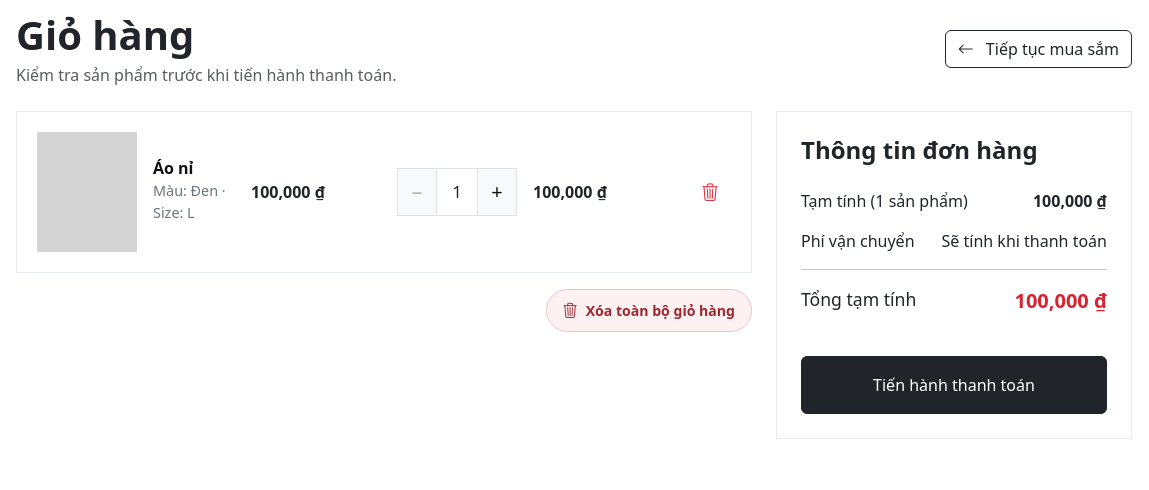
CartComponent › shows the empty-cart view and resets the header when the last item is deleted
Step 1. Click the button with class "remove-button" → (710, 192), box [689,178,731,206]
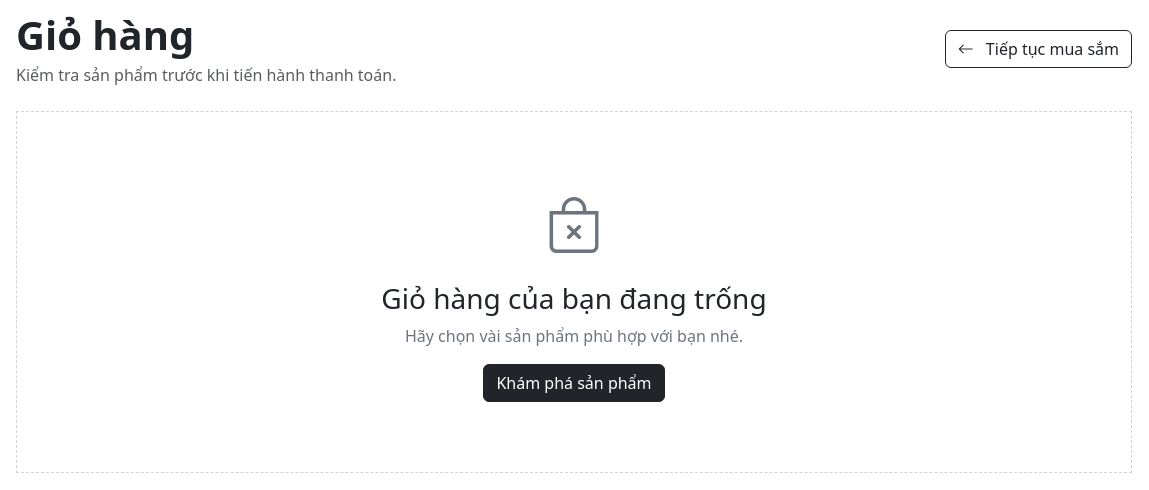
Check: the element with class "empty-cart" shows "Giỏ hàng của bạn đang trống", box [381,279,767,317]
Check: no elements with class "cart-item" are shown
